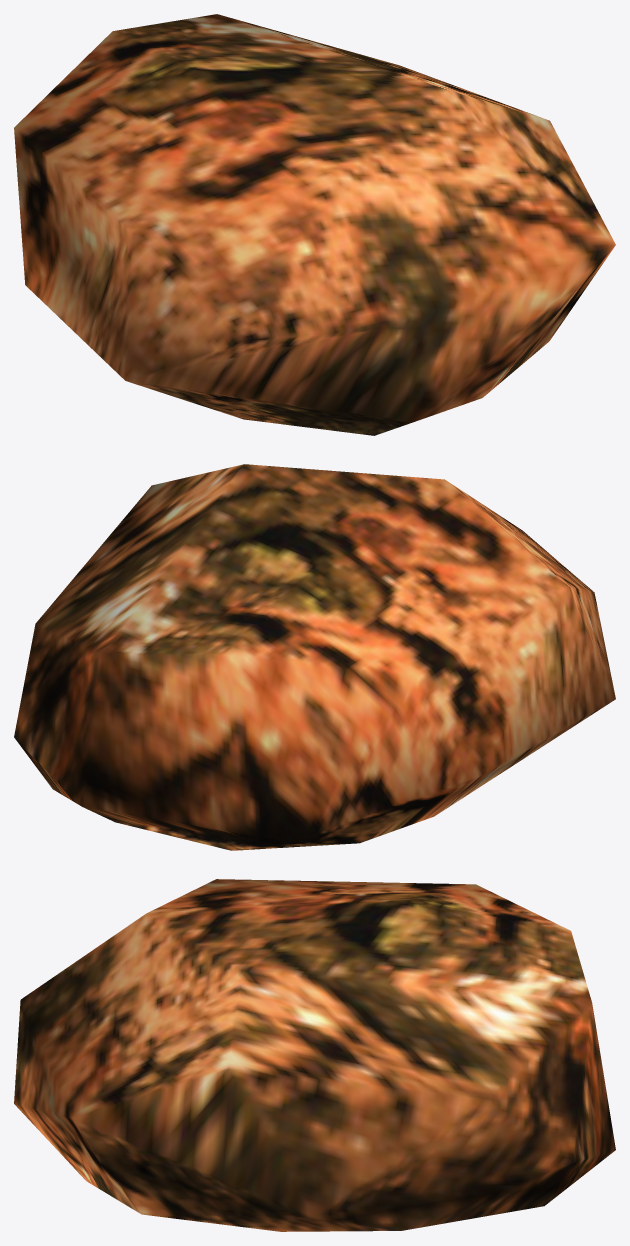
File: stone14_tex3.fbx
The picture shows the model from 3 angles, top to bottom: view 1: azimuth 30°, elevation 25°; view 2: azimuth 150°, elevation 25°; view 3: azimuth 270°, elevation 25°; orthographic projection. The views are drawn at different scales.
Visible parts, largest first — view 1: stone14_tex3Object; view 2: stone14_tex3Object; view 3: stone14_tex3Object.
Boxes of the visible parts, bbox=[...] form: stone14_tex3Object: bbox=[14, 14, 615, 435]; stone14_tex3Object: bbox=[14, 464, 615, 850]; stone14_tex3Object: bbox=[14, 879, 615, 1231].
Bounding box in the file's own units: 1.05 × 0.5246 × 1.26.
Materials: 1 (1 with a texture image).
